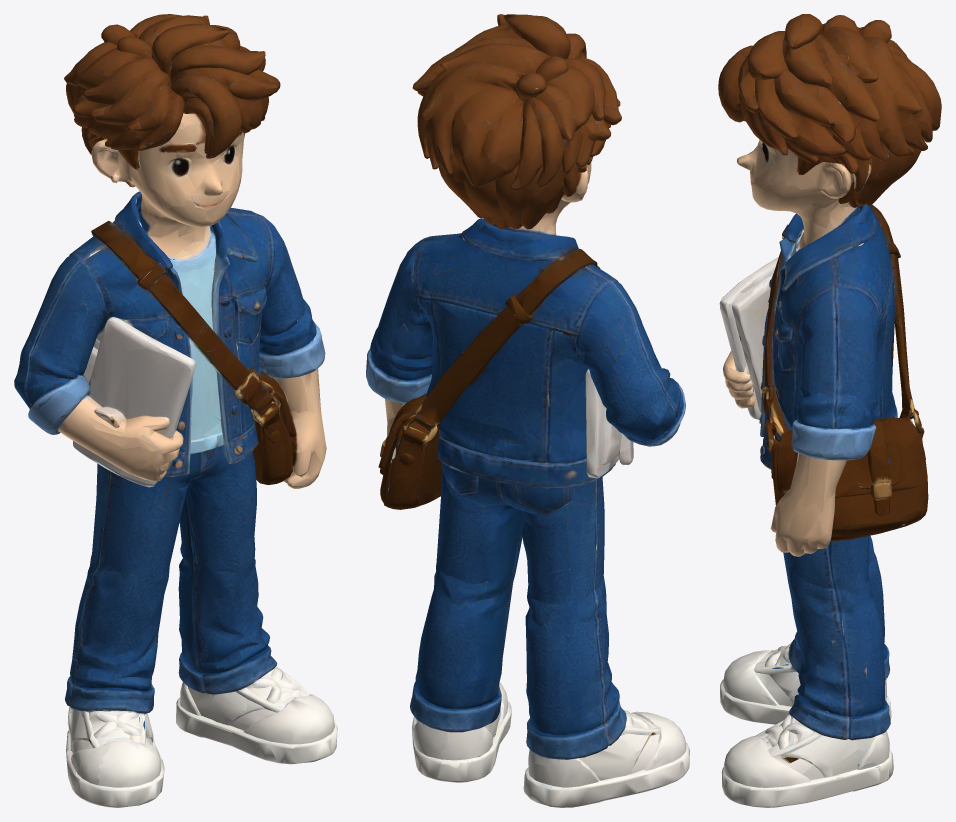
Rendered from upm_mv3pqmcu56m.glb.
The picture shows the model from 3 angles, left to right: view 1: azimuth 30°, elevation 25°; view 2: azimuth 150°, elevation 25°; view 3: azimuth 270°, elevation 25°; orthographic projection.
Bounding box in the file's own units: 0.8112 × 1.9 × 0.5291.
Materials: 1 (1 with a texture image).
